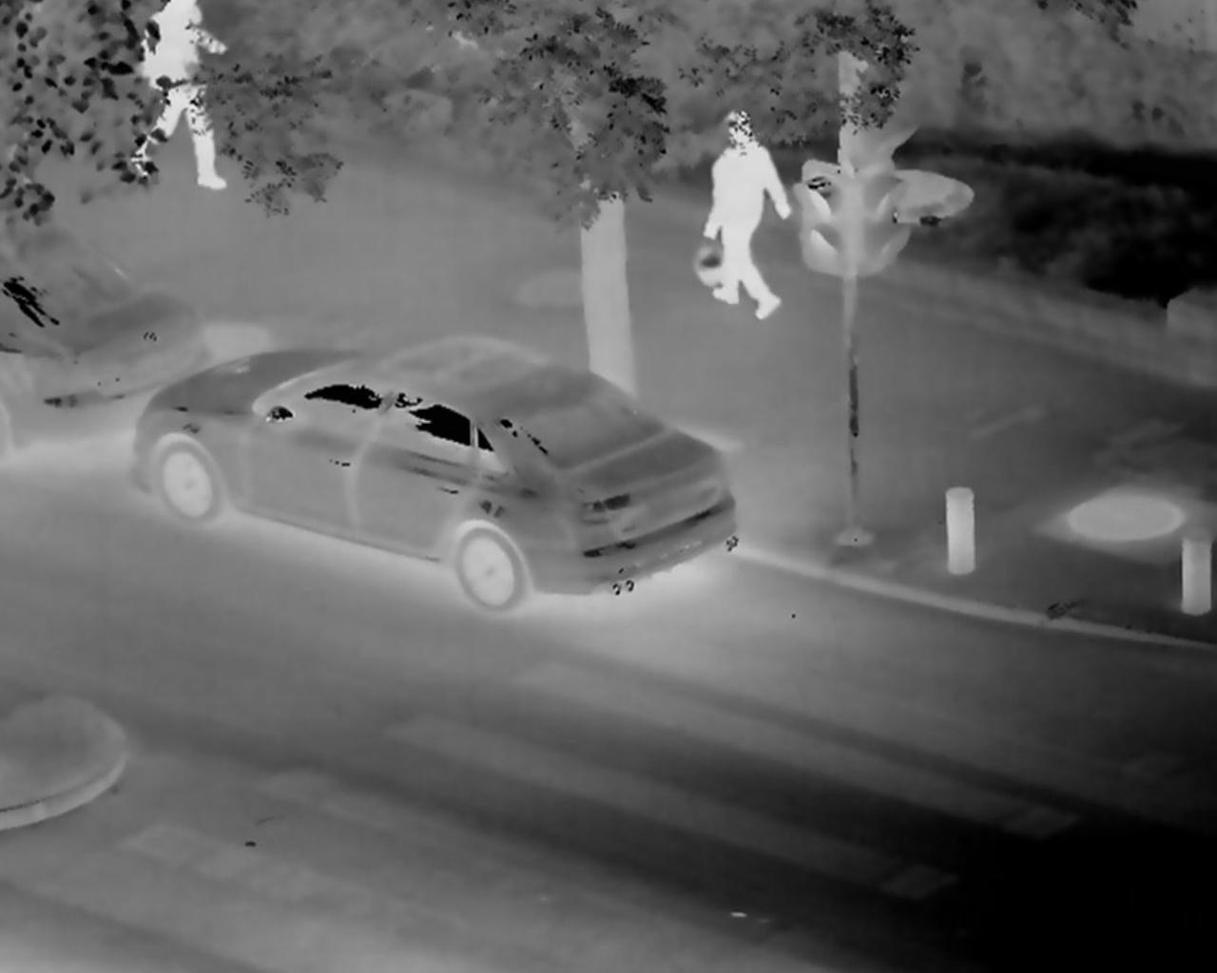person: (696, 105, 791, 321)
